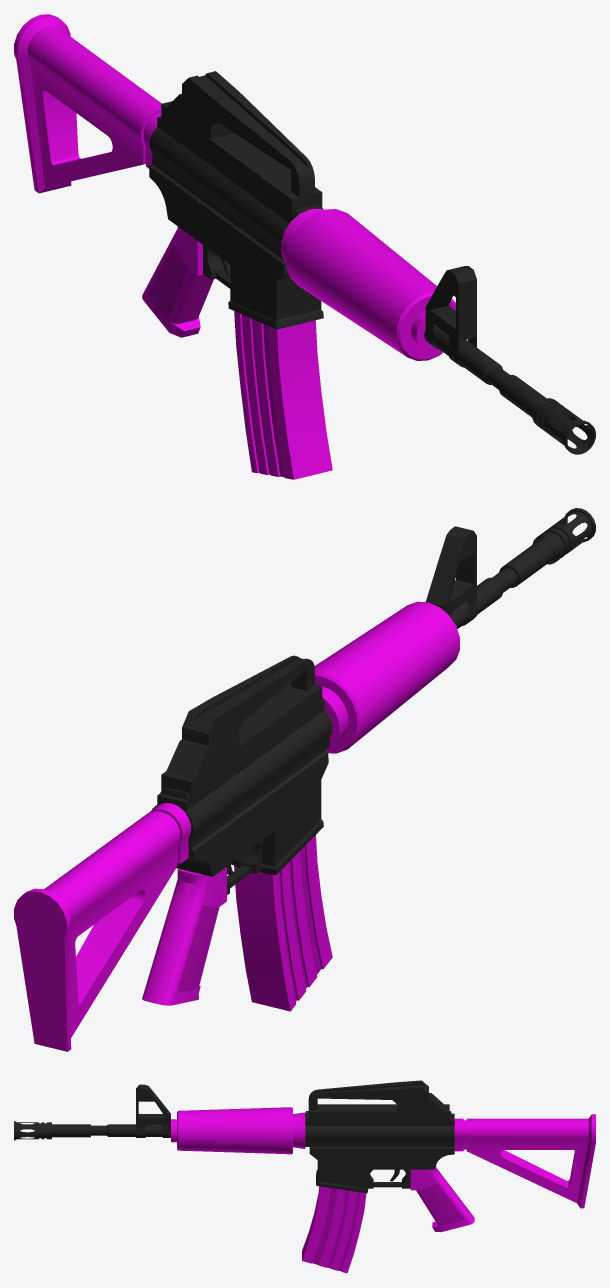
Rendered from Gun06.fbx.
3 views of the same model, one above another, from view 1: azimuth 30°, elevation 25°; view 2: azimuth 150°, elevation 25°; view 3: azimuth 270°, elevation 25° (orthographic). The views are drawn at different scales.
Parts seen in each view (by area): view 1: Gun06; view 2: Gun06; view 3: Gun06.
Boxes of the visible parts, <box> form: Gun06: <box>14,14,595,479</box>; Gun06: <box>14,508,595,1051</box>; Gun06: <box>14,1080,595,1273</box>.
Bounding box in the file's own units: 17.27 × 75.41 × 216.
